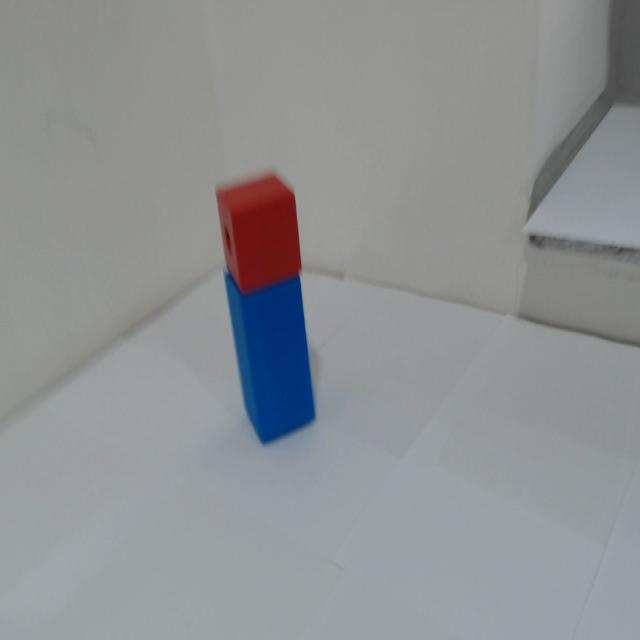cube: (209, 171, 321, 297)
